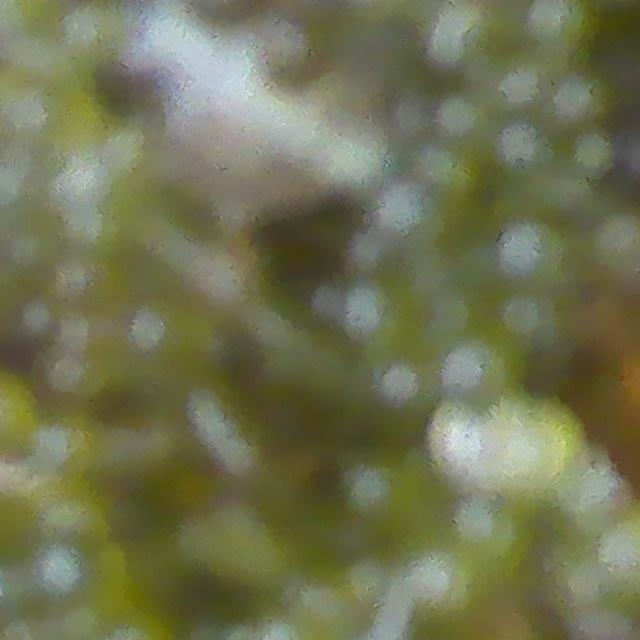SeaGrape: (453, 494, 539, 578), (494, 216, 575, 298), (581, 202, 640, 301), (520, 0, 603, 61), (432, 83, 501, 150), (490, 118, 556, 182), (491, 46, 552, 113), (31, 540, 89, 598)
